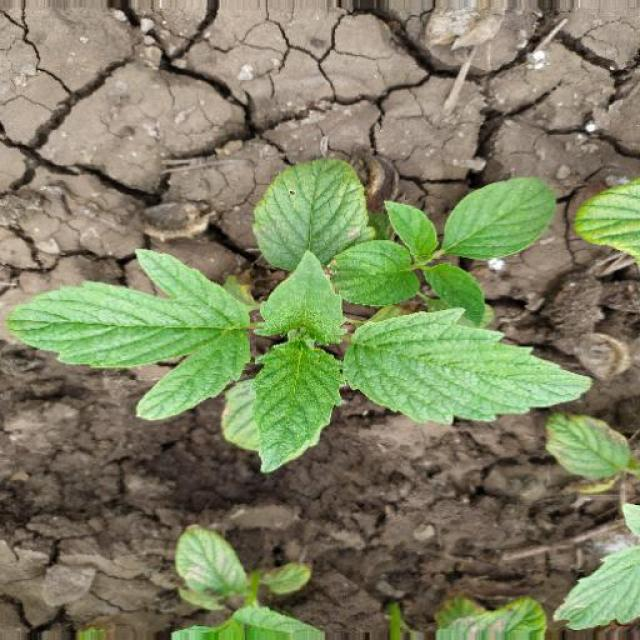crop: (24, 157, 598, 465)
